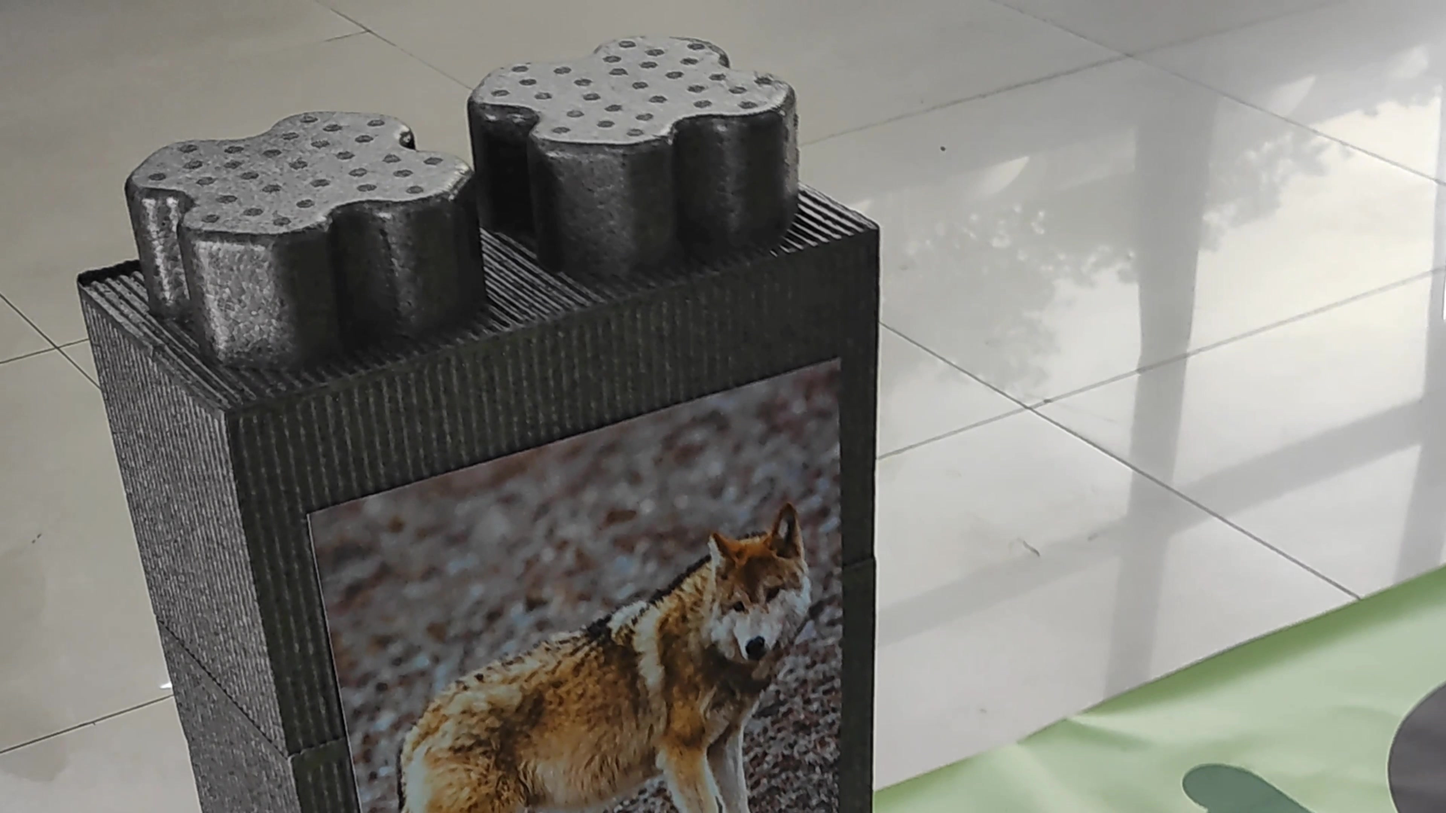wolf: (376, 508, 821, 813)
